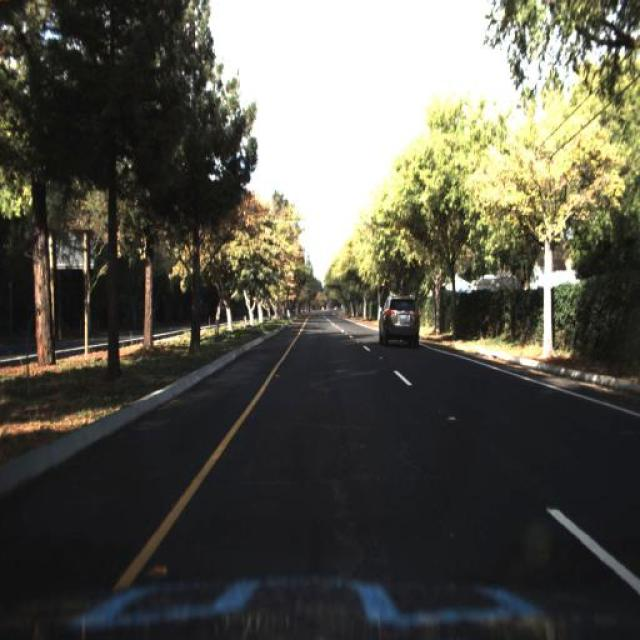car: (378, 292, 422, 348)
